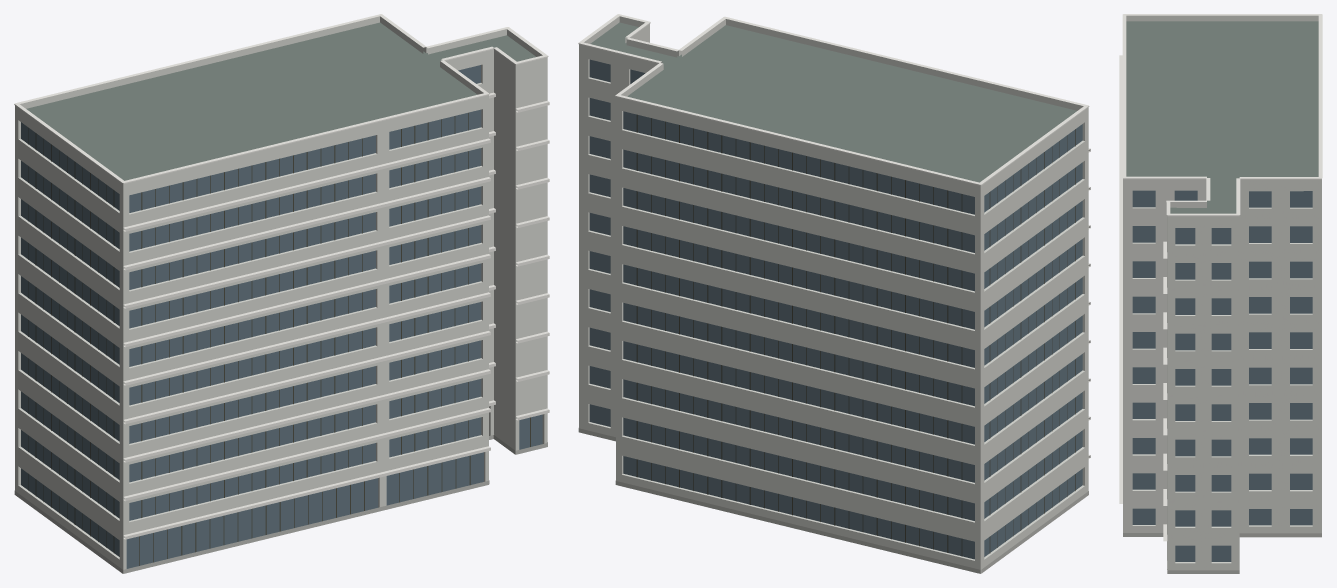
The picture shows the model from 3 angles, left to right: view 1: azimuth 30°, elevation 25°; view 2: azimuth 150°, elevation 25°; view 3: azimuth 270°, elevation 25°; orthographic projection. The views are drawn at different scales.
Visible parts, largest first — view 1: johyeong__wall, johyeong__glass, johyeong__roof, johyeong__trim, johyeong__frame, johyeong__parapet, johyeong__base; view 2: johyeong__wall, johyeong__glass, johyeong__roof, johyeong__frame, johyeong__parapet, johyeong__trim, johyeong__base; view 3: johyeong__wall, johyeong__roof, johyeong__glass, johyeong__trim, johyeong__parapet, johyeong__base.
Part boxes in pixels (x1,y1,x2,y2): johyeong__wall: [15, 54, 547, 573]; johyeong__glass: [21, 65, 542, 568]; johyeong__roof: [26, 22, 535, 180]; johyeong__trim: [14, 14, 549, 539]; johyeong__frame: [28, 112, 530, 565]; johyeong__parapet: [15, 16, 547, 188]; johyeong__base: [14, 435, 547, 573]; johyeong__wall: [579, 28, 1088, 573]; johyeong__glass: [589, 59, 1082, 559]; johyeong__roof: [590, 22, 1076, 182]; johyeong__frame: [636, 114, 1075, 556]; johyeong__parapet: [579, 16, 1088, 190]; johyeong__trim: [578, 14, 1090, 458]; johyeong__base: [578, 428, 1088, 573]; johyeong__wall: [1123, 183, 1321, 570]; johyeong__roof: [1126, 21, 1318, 213]; johyeong__glass: [1132, 190, 1312, 561]; johyeong__trim: [1119, 14, 1322, 541]; johyeong__parapet: [1123, 15, 1321, 220]; johyeong__base: [1123, 533, 1321, 573].
Bounding box in the file's own units: 45.26 × 37.6 × 19.29.
